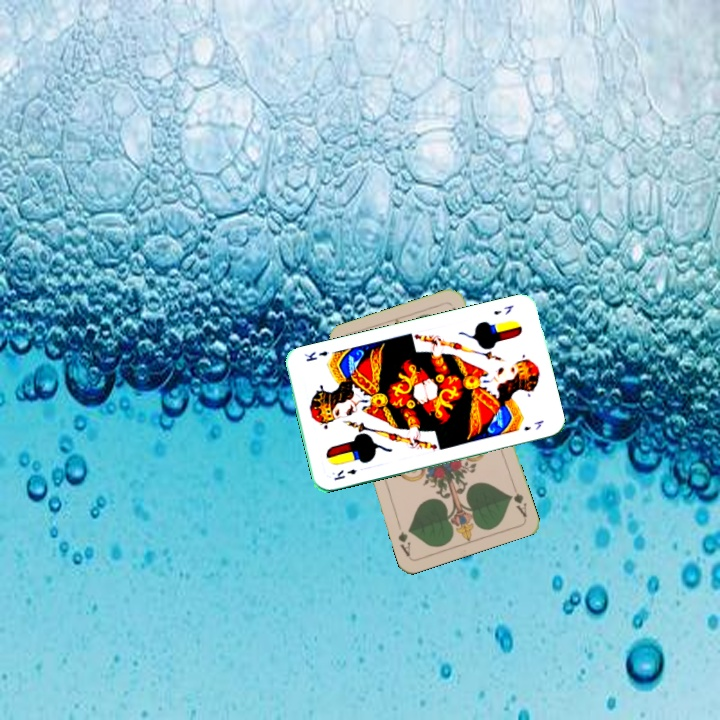EK: (330, 465, 359, 483), (489, 301, 516, 318)
GA: (506, 481, 529, 520)
